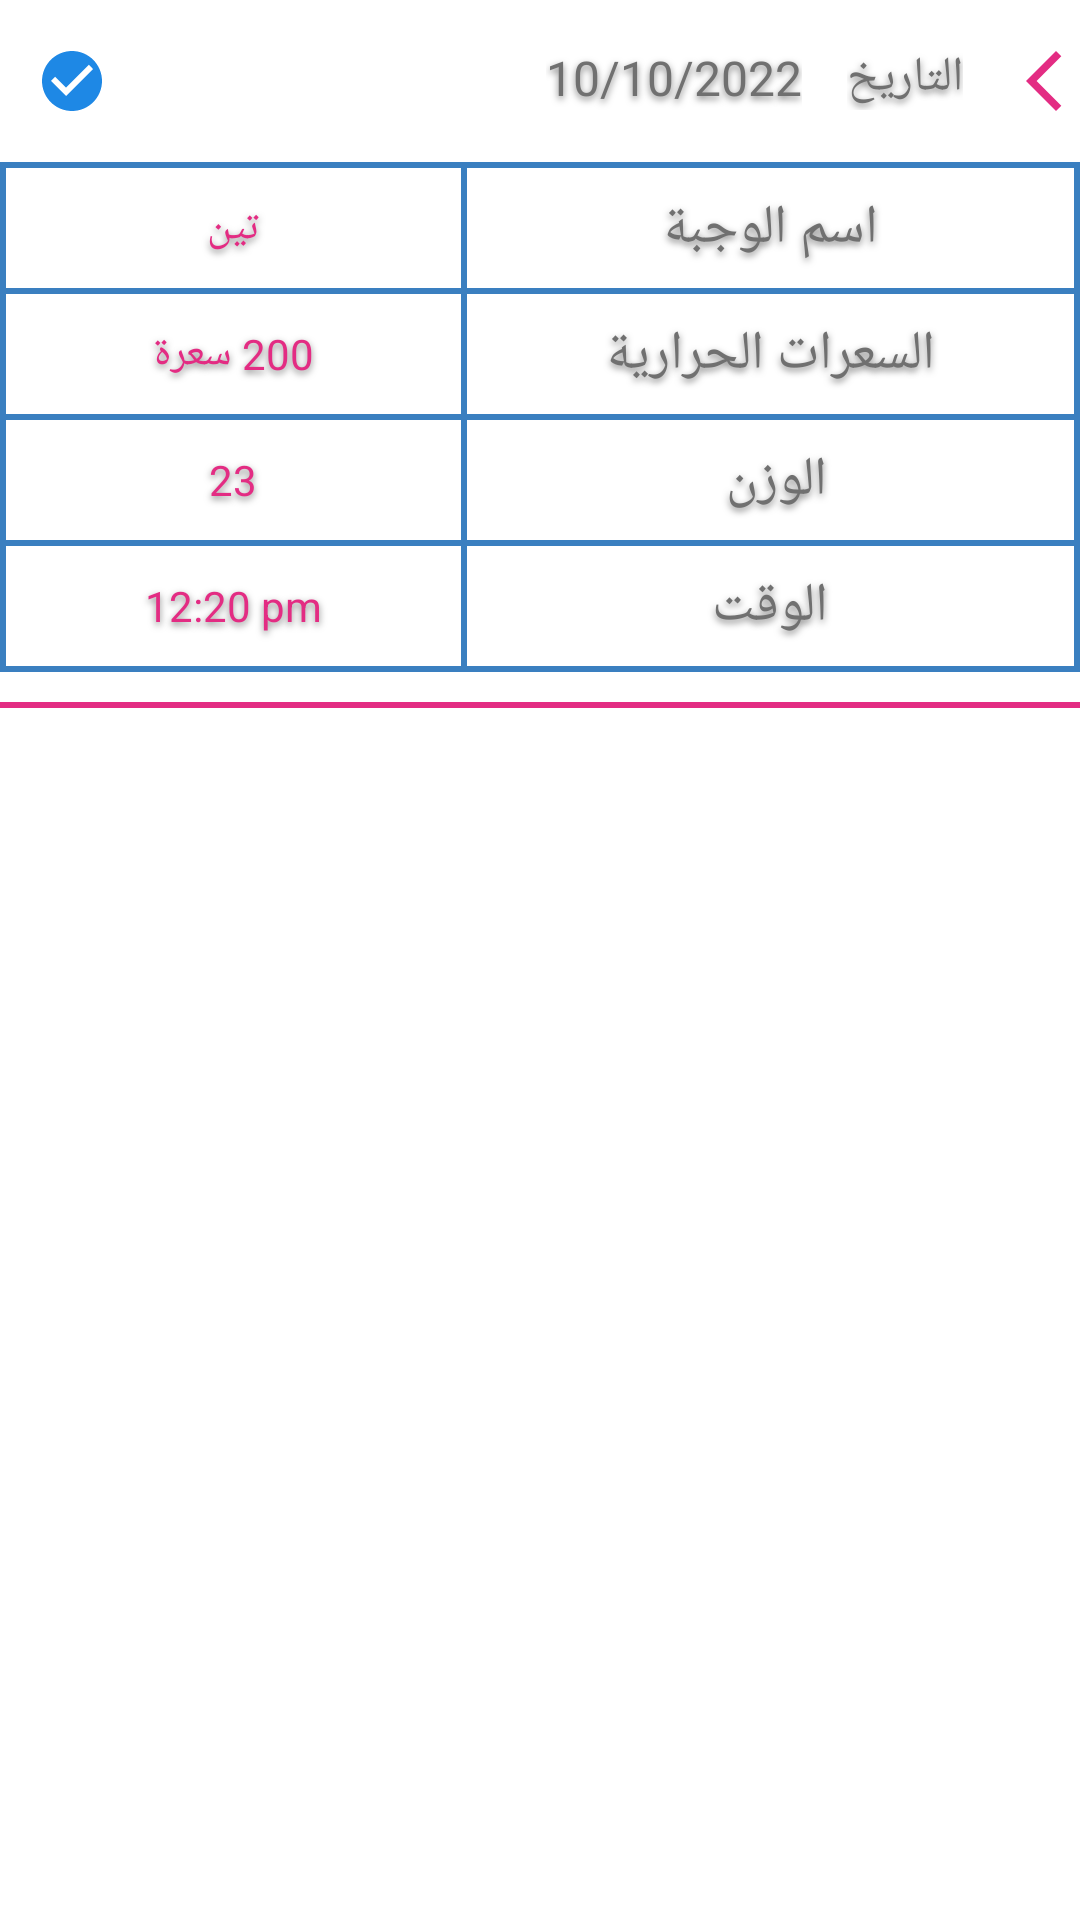

Icons on this 1080px×1920px Android screen, each with its box as (x1, y1, x2, y2):
back: (1026, 51, 1061, 111)
check circle: (42, 51, 102, 111)
